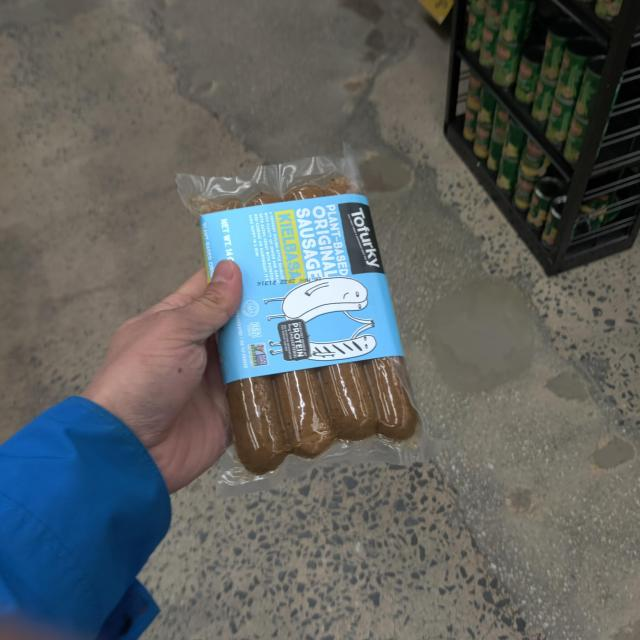Meat: (173, 169, 421, 482)
